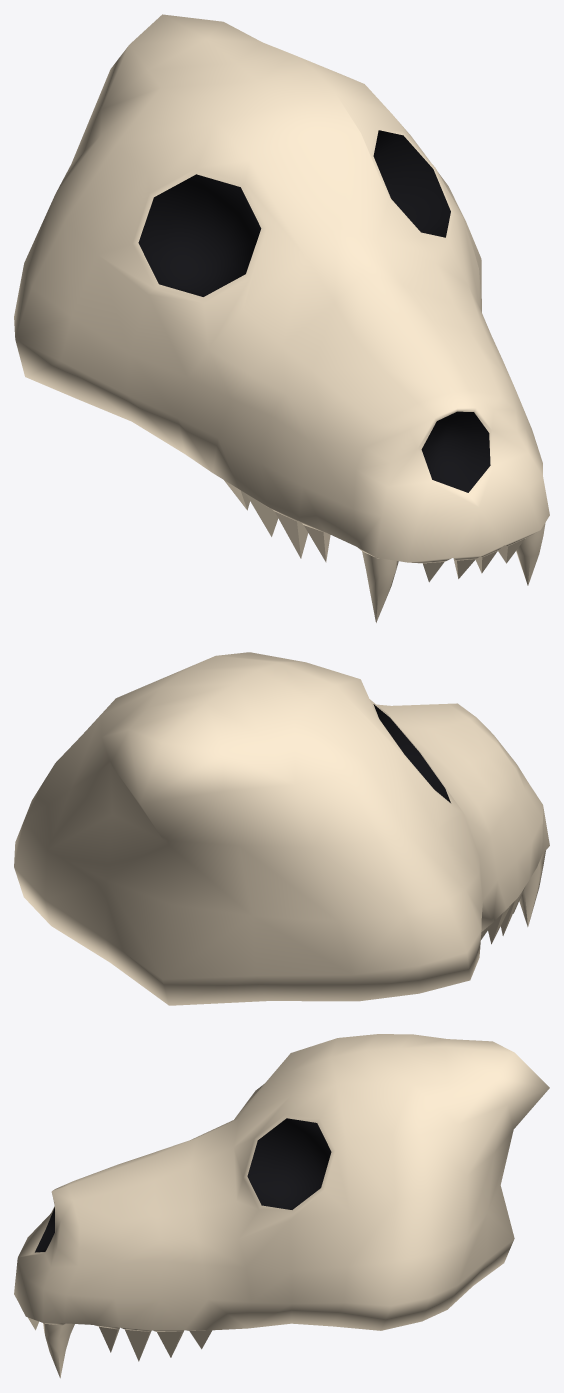
The model's file is Wolf_Skull.fbx.
3 views of the same model, one above another, from view 1: azimuth 30°, elevation 25°; view 2: azimuth 150°, elevation 25°; view 3: azimuth 270°, elevation 25° (orthographic). The views are drawn at different scales.
Parts seen in each view (by area): view 1: Wolf_Skull; view 2: Wolf_Skull; view 3: Wolf_Skull.
Boxes of the visible parts, <box> form: Wolf_Skull: <box>14,14,549,622</box>; Wolf_Skull: <box>14,652,549,1005</box>; Wolf_Skull: <box>14,1034,549,1378</box>.
Size of the model in its own units: 18.81 by 15.36 by 24.63.
